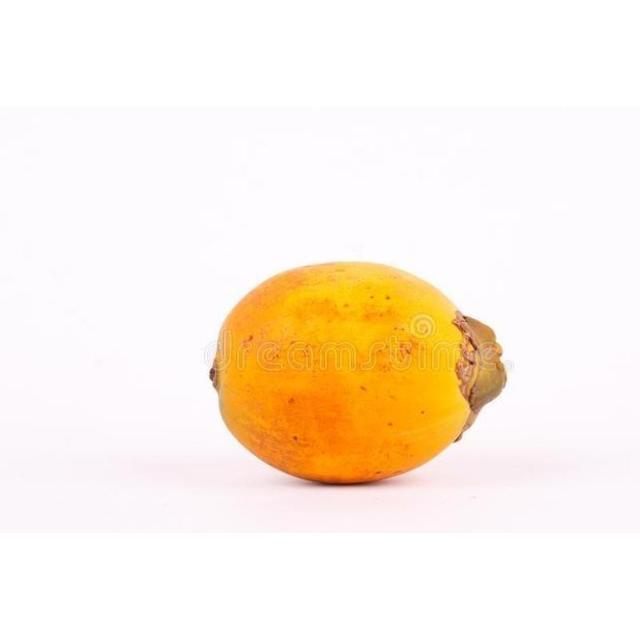good: (209, 261, 508, 487)
